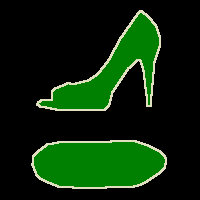shoe: (37, 10, 160, 110), (32, 140, 166, 188)
